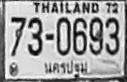0: (56, 16, 70, 55)
3: (27, 17, 42, 55), (105, 17, 119, 54)
6: (72, 17, 86, 54)
7: (10, 16, 25, 55)
9: (89, 16, 102, 54)
NPT: (42, 56, 90, 80)
